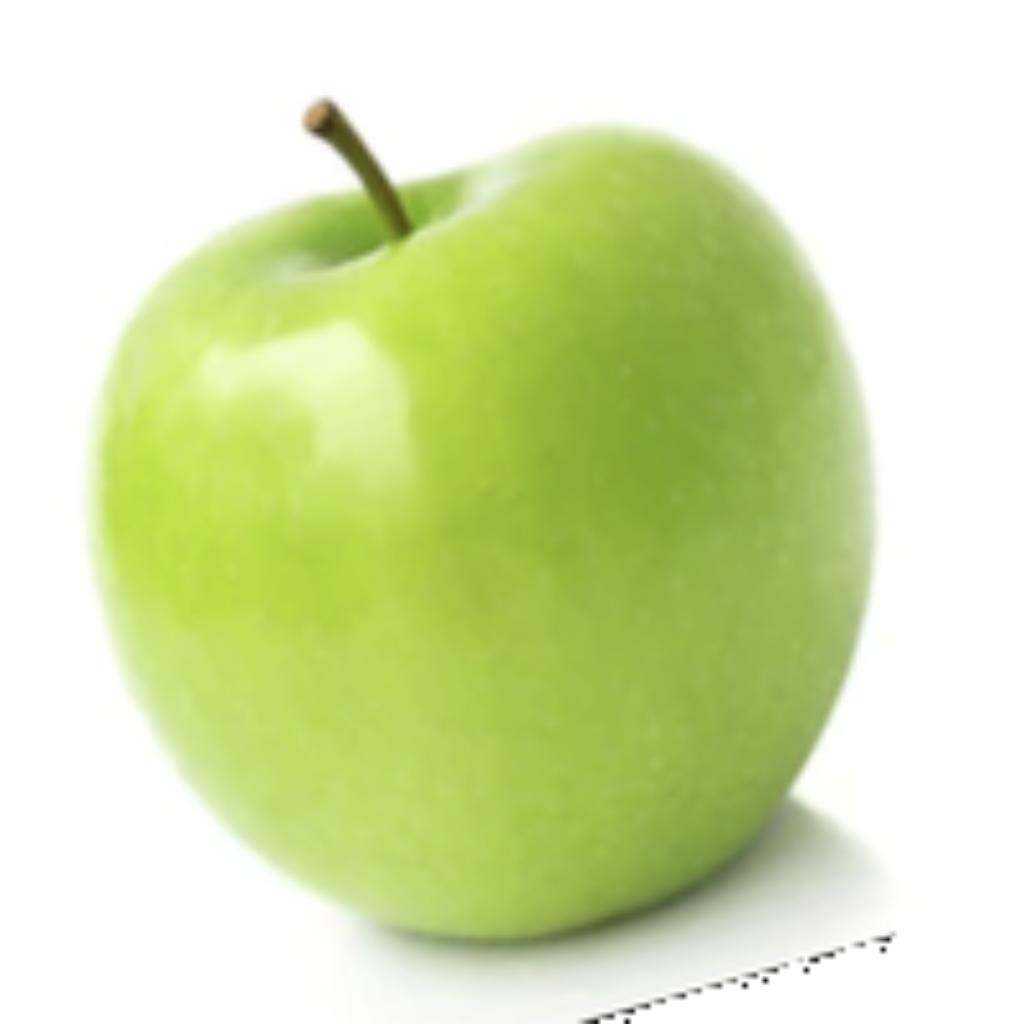apple: (77, 92, 896, 1019)
